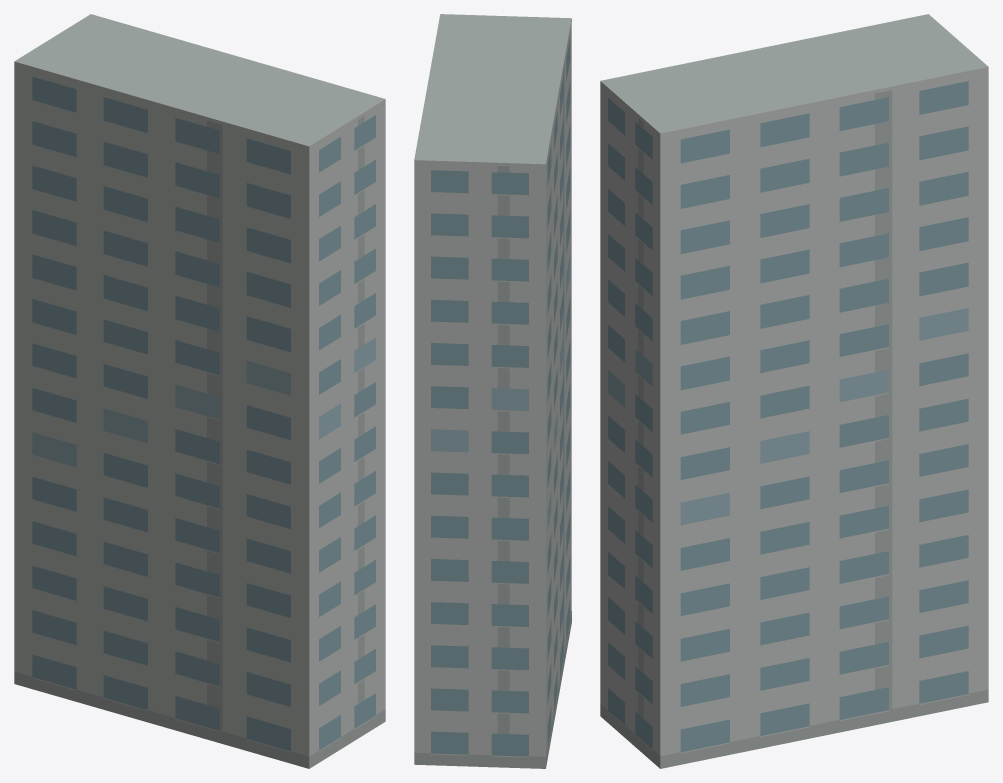
Rendered from residential-83cd5527-a16f-4e8d-8af8-ad4dc5aab846.glb.
3 views of the same model, side by side, from view 1: azimuth 30°, elevation 25°; view 2: azimuth 150°, elevation 25°; view 3: azimuth 270°, elevation 25° (orthographic). The views are drawn at different scales.
Parts seen in each view (by area): view 1: residential-83cd5527-a16f-4e8d-8af8-ad4dc5aab846.tmp; view 2: residential-83cd5527-a16f-4e8d-8af8-ad4dc5aab846.tmp; view 3: residential-83cd5527-a16f-4e8d-8af8-ad4dc5aab846.tmp.
Boxes of the visible parts, x1,y1,x2,y2 form: residential-83cd5527-a16f-4e8d-8af8-ad4dc5aab846.tmp: (14, 14, 385, 768); residential-83cd5527-a16f-4e8d-8af8-ad4dc5aab846.tmp: (414, 14, 571, 768); residential-83cd5527-a16f-4e8d-8af8-ad4dc5aab846.tmp: (600, 14, 988, 768).
Size of the model in its own units: 17.77 by 44 by 24.39.
